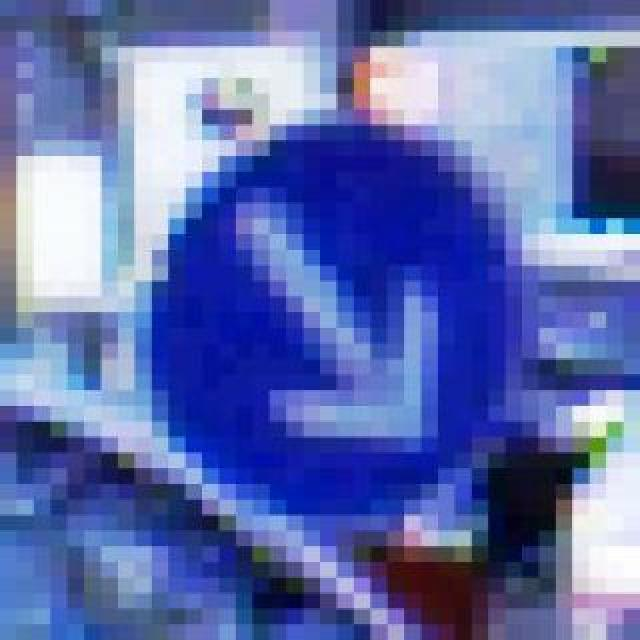keep right: (102, 94, 506, 530)
